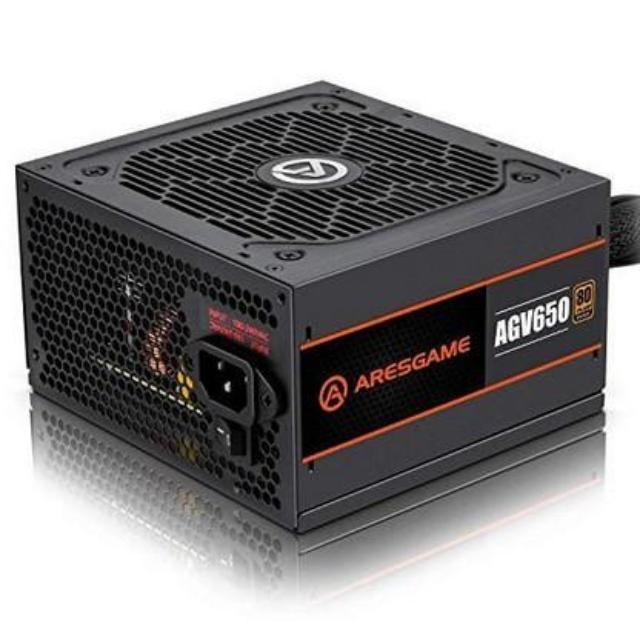PSU: (6, 74, 632, 546)
